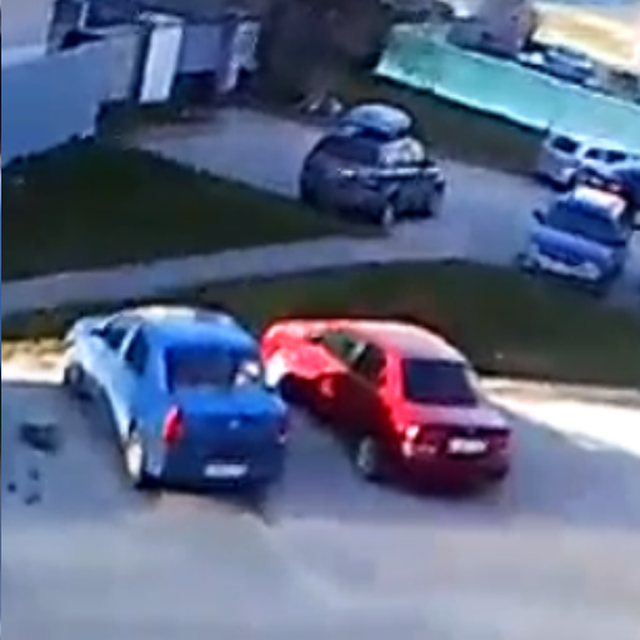car: (259, 319, 510, 489), (63, 304, 289, 491), (301, 104, 446, 226), (513, 185, 636, 285), (534, 132, 640, 181)
